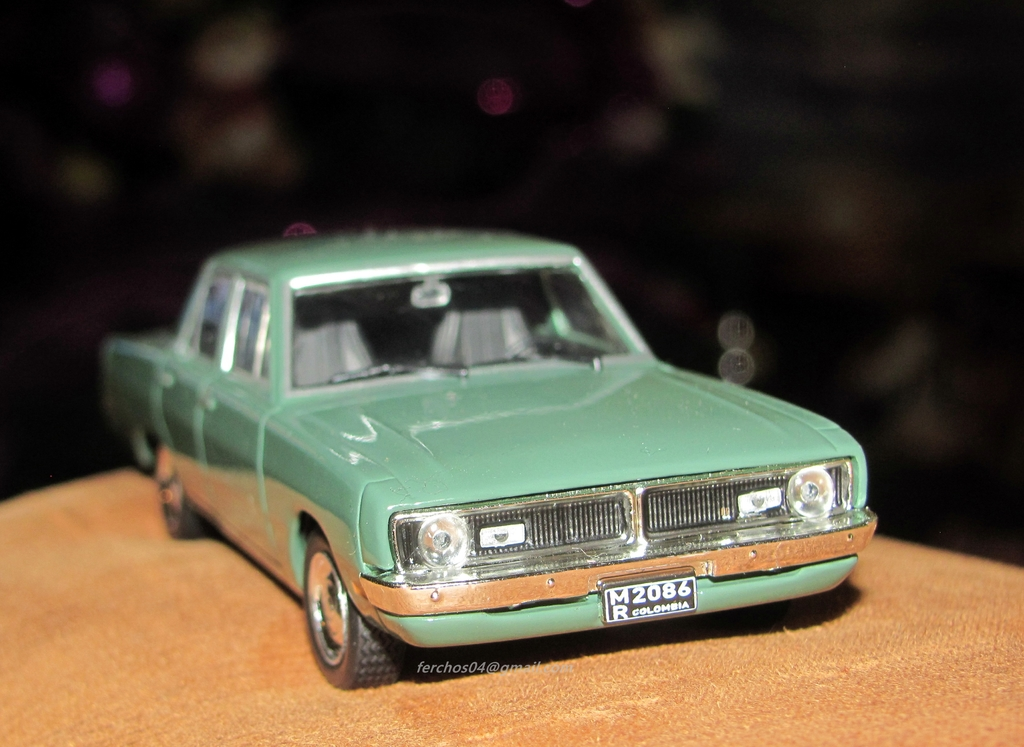Car: (117, 221, 864, 682)
